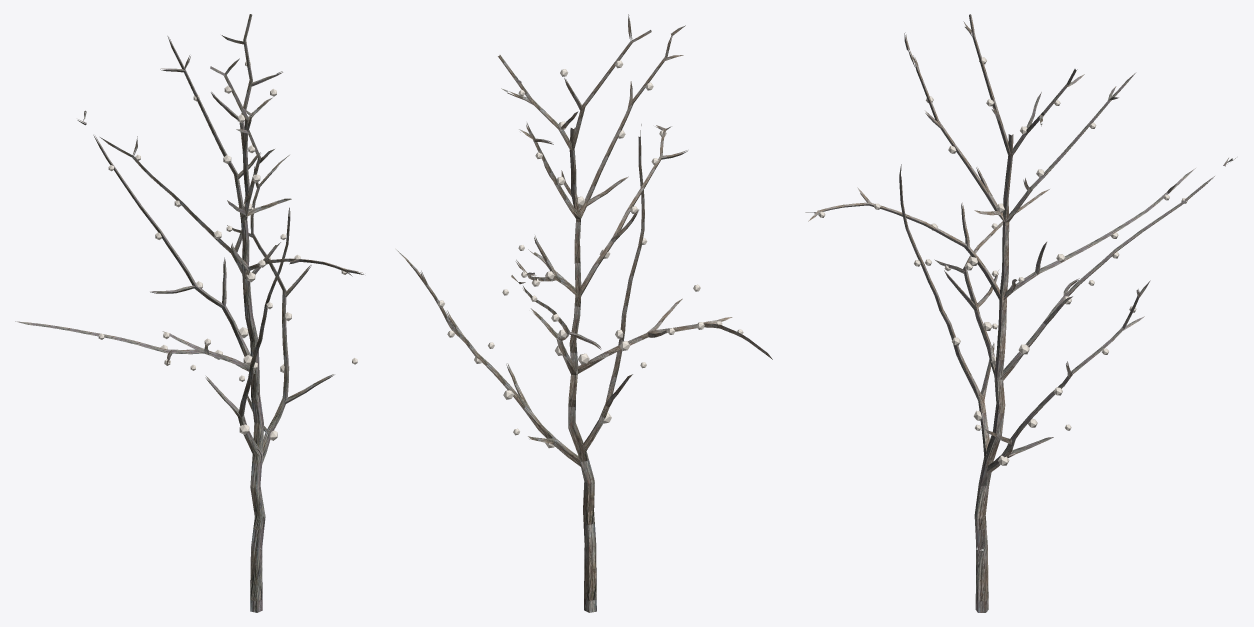
File: bush_bare.glb
3 renders of one model, left to right at view 1: azimuth 30°, elevation 25°; view 2: azimuth 150°, elevation 25°; view 3: azimuth 270°, elevation 25°, orthographic. The views are drawn at different scales.
Parts seen in each view (by area): view 1: bush_bare; view 2: bush_bare; view 3: bush_bare.
Boxes of the visible parts, box(x1,y1,x2,y2) form: bush_bare: box(15, 14, 363, 612); bush_bare: box(396, 14, 772, 612); bush_bare: box(805, 14, 1235, 612).
Bounding box in the file's own units: 1.47 × 2.48 × 1.7.
Materials: 3 (3 with a texture image).
